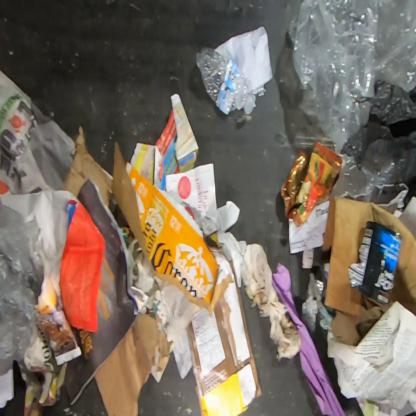cardboard: (113, 138, 225, 312), (186, 232, 262, 416), (321, 194, 415, 320), (93, 312, 173, 415), (62, 124, 113, 218)
rigid_plastic: (196, 48, 255, 118)
soft_plastic: (289, 0, 415, 157), (341, 80, 416, 198), (0, 204, 43, 376), (330, 156, 374, 204)
